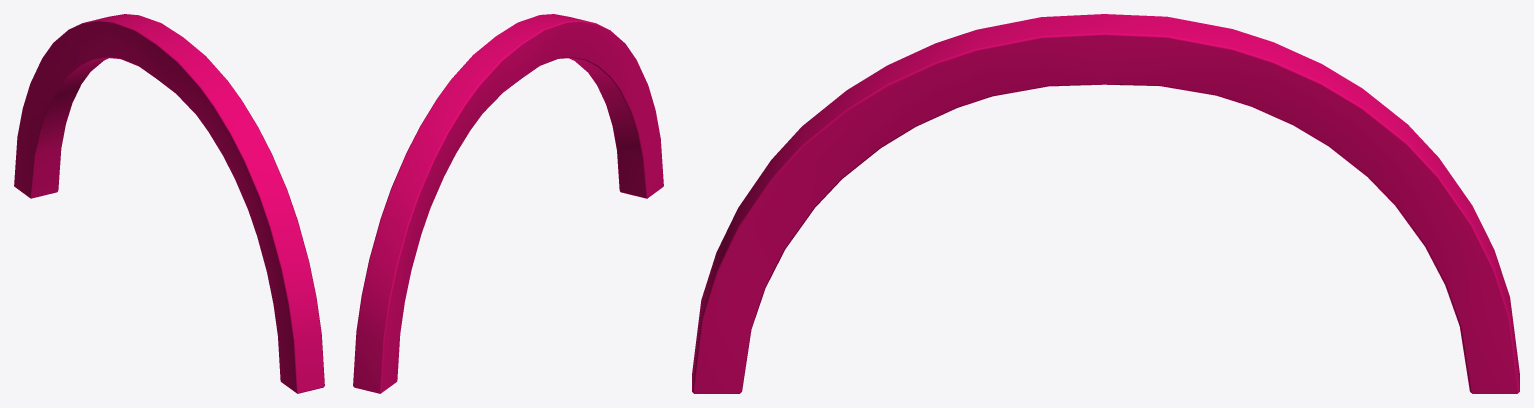
The model's file is Beam_04_Bend.fbx.
3 renders of one model, left to right at view 1: azimuth 30°, elevation 25°; view 2: azimuth 150°, elevation 25°; view 3: azimuth 270°, elevation 25°, orthographic. The views are drawn at different scales.
Parts seen in each view (by area): view 1: Beam_04_Bend; view 2: Beam_04_Bend; view 3: Beam_04_Bend.
Part boxes in pixels (x1,y1,x2,y2): Beam_04_Bend: (14,14,324,393); Beam_04_Bend: (353,14,663,393); Beam_04_Bend: (692,14,1519,393).
Bounding box in the file's own units: 25.24 × 207 × 431.
